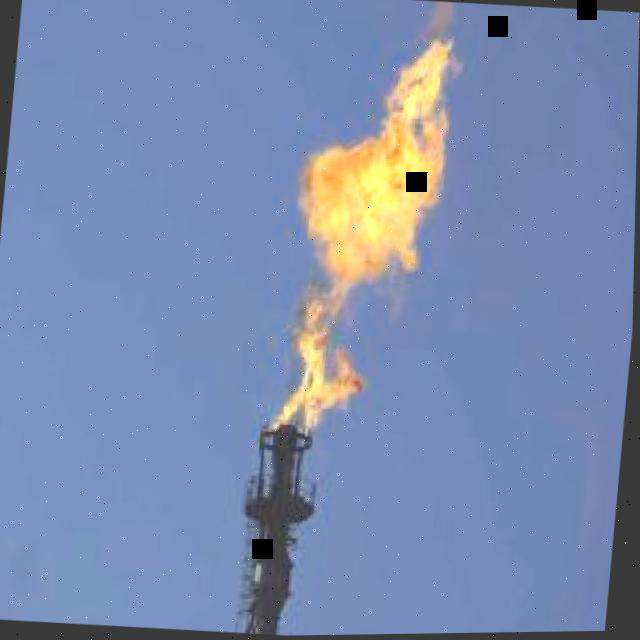fire: (269, 41, 452, 430)
